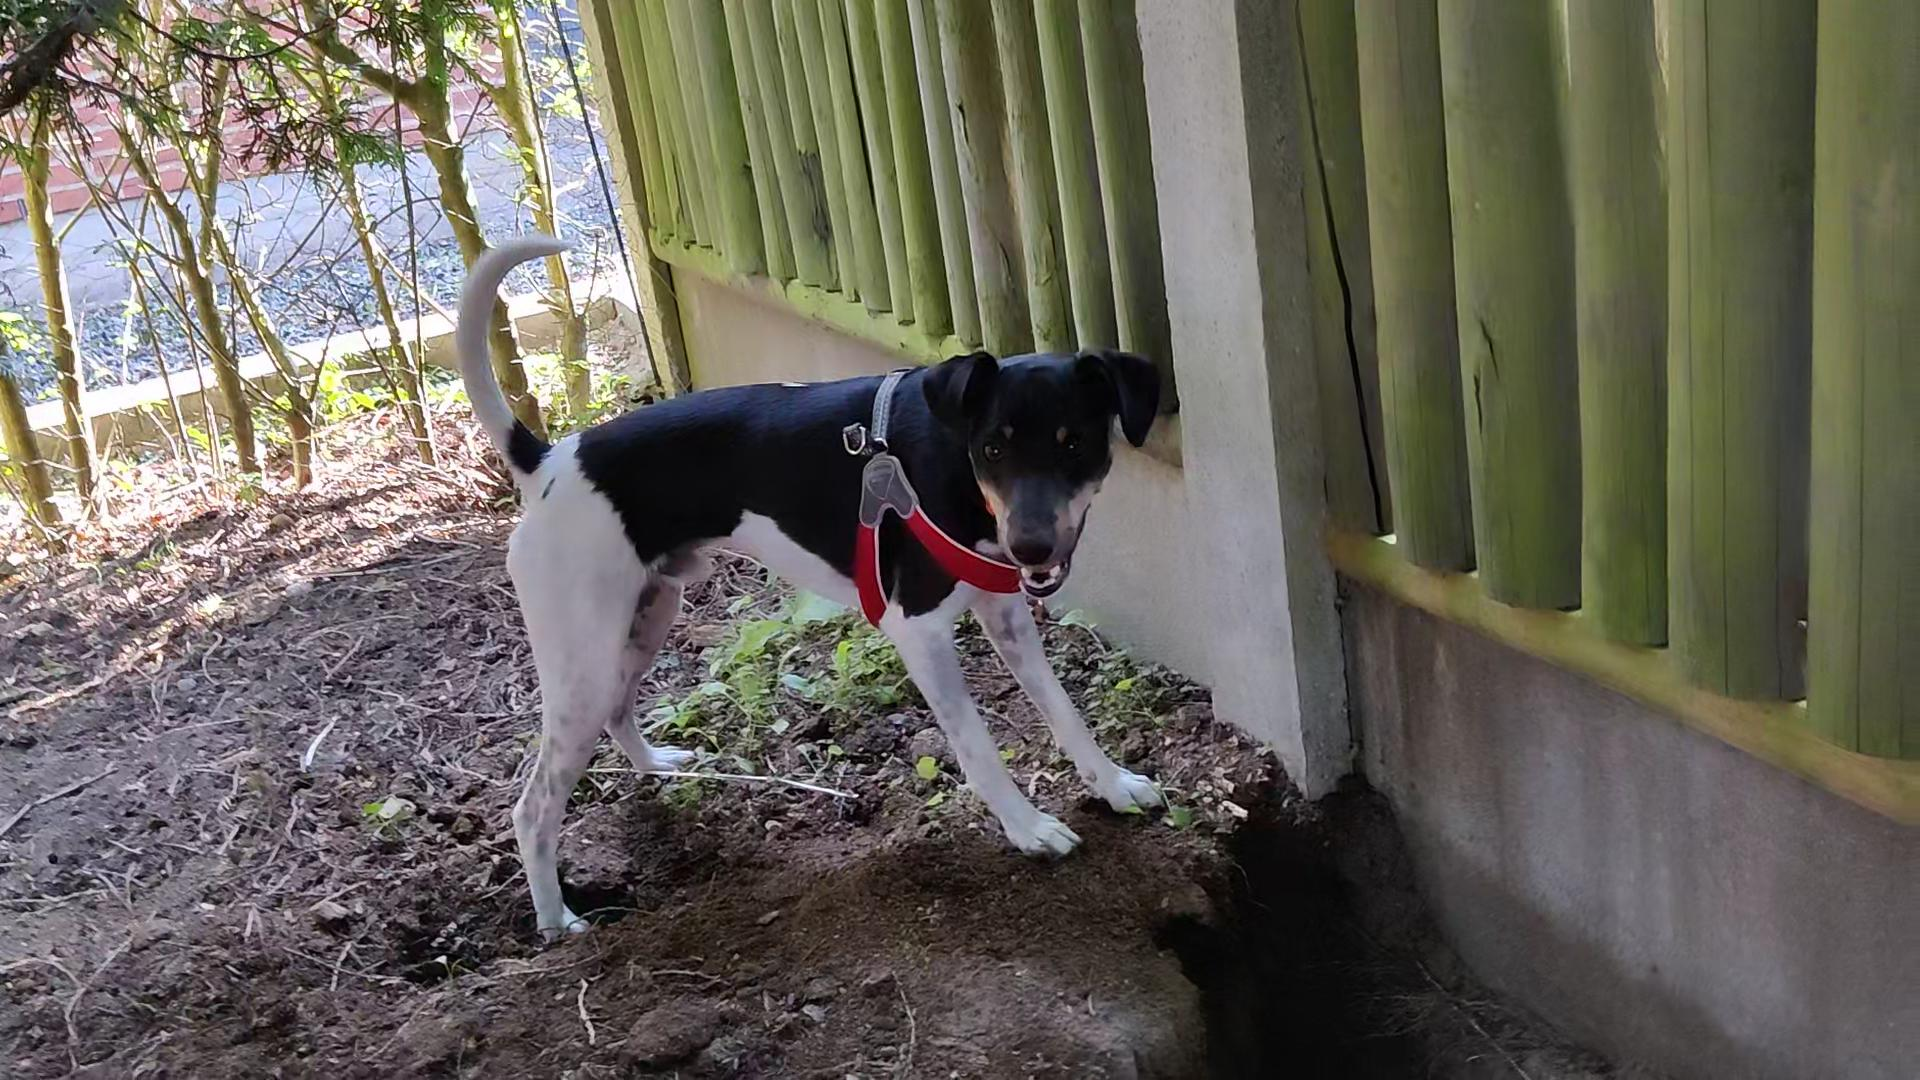Dog: (407, 193, 1195, 952)
